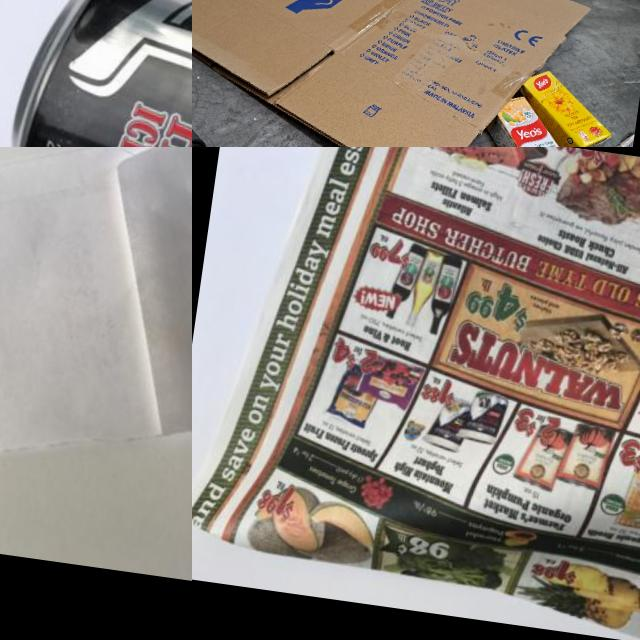caixinha: (510, 67, 620, 147), (480, 92, 585, 147)
lata: (0, 0, 192, 147), (577, 122, 635, 147)
papel: (192, 147, 640, 640), (0, 147, 192, 495)
papelão: (192, 0, 602, 147)
